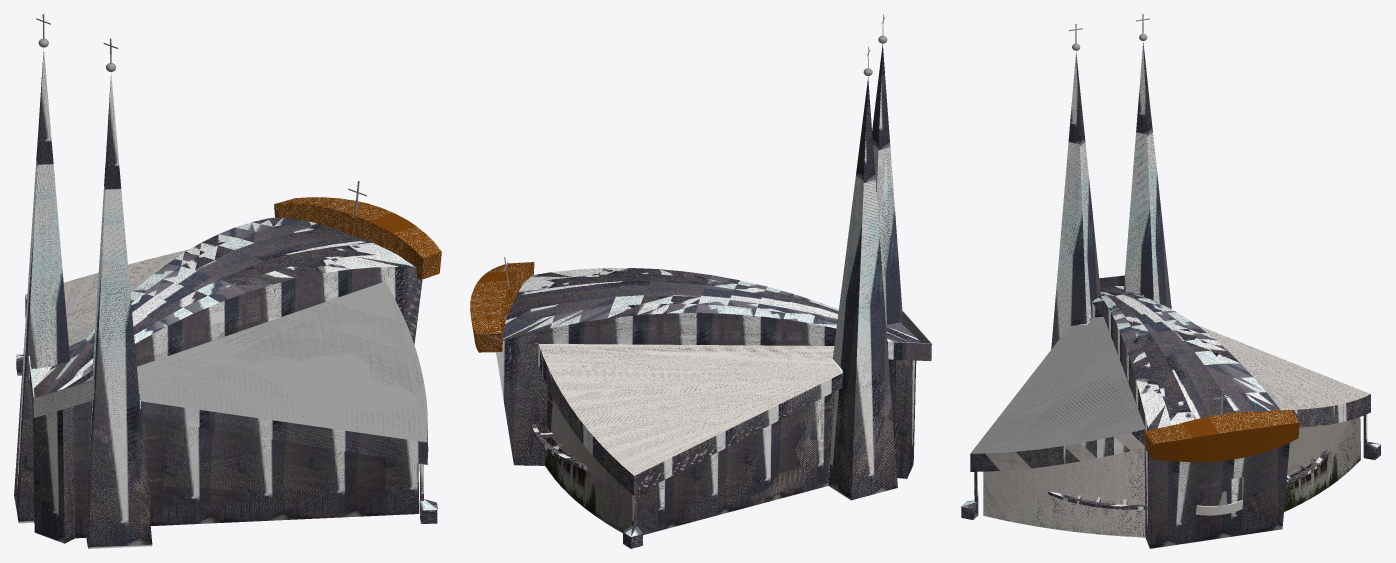
Rendered from kostol_zapad.glb.
3 renders of one model, left to right at view 1: azimuth 30°, elevation 25°; view 2: azimuth 150°, elevation 25°; view 3: azimuth 270°, elevation 25°, orthographic. The views are drawn at different scales.
Parts seen in each view (by area): view 1: stena-veže-BEZ-žaluzie, _0135_DarkGray, material_1, PA250159A_19, Color_B21, PA250159A, material_2, stena-veže-so-žaluziou_17, veža-dole-betón_13, stena-veže-BEZ-žaluzie_9, Color_001, PA250149Aa (+2 smaller); view 2: stena-veže-BEZ-žaluzie, material_2, material_1, PA250159A_22, PA250159A, bok-lode-s-oknami_0, Color_B21, betónová_stena, veža-dole-betón_11, stena-veže-BEZ-žaluzie_16, bok-lode-s-oknami_3, stena-veže-so-žaluziou_12 (+4 smaller); view 3: stena-veže-BEZ-žaluzie, material_2, _0135_DarkGray, material_1, Color_B21, bok-lode-s-oknami_0, betónová_stena, PRIEčELIE-VýCHOD_5, stena-veže-so-žaluziou1_14, bok-lode-s-oknami_3, stena-veže-BEZ-žaluzie_10, bok-lode-s-oknami_1 (+6 smaller).
Boxes of the visible parts, x1,y1,x2,y2 form: stena-veže-BEZ-žaluzie: [14, 48, 437, 548]; _0135_DarkGray: [16, 181, 434, 509]; material_1: [26, 218, 427, 441]; PA250159A_19: [143, 418, 418, 525]; Color_B21: [29, 197, 441, 397]; PA250159A: [135, 267, 415, 362]; material_2: [25, 250, 188, 346]; stena-veže-so-žaluziou_17: [94, 99, 141, 431]; veža-dole-betón_13: [88, 426, 151, 548]; stena-veže-BEZ-žaluzie_9: [26, 55, 69, 376]; Color_001: [36, 14, 441, 278]; PA250149Aa: [33, 411, 64, 540]; stena-veže-BEZ-žaluzie: [496, 44, 931, 548]; material_2: [538, 344, 842, 475]; material_1: [503, 268, 918, 474]; PA250159A_22: [637, 393, 834, 533]; PA250159A: [504, 313, 835, 345]; bok-lode-s-oknami_0: [545, 387, 632, 532]; Color_B21: [470, 262, 930, 352]; betónová_stena: [497, 343, 842, 492]; veža-dole-betón_11: [851, 382, 897, 498]; stena-veže-BEZ-žaluzie_16: [876, 48, 901, 322]; bok-lode-s-oknami_3: [545, 387, 631, 532]; stena-veže-so-žaluziou_12: [856, 86, 888, 394]; stena-veže-BEZ-žaluzie: [961, 42, 1381, 548]; material_2: [983, 324, 1370, 537]; _0135_DarkGray: [961, 276, 1378, 508]; material_1: [971, 286, 1368, 453]; Color_B21: [1121, 275, 1299, 462]; bok-lode-s-oknami_0: [983, 417, 1360, 536]; betónová_stena: [970, 396, 1370, 545]; PRIEčELIE-VýCHOD_5: [1150, 447, 1288, 548]; stena-veže-so-žaluziou1_14: [1053, 59, 1085, 331]; bok-lode-s-oknami_3: [1284, 418, 1360, 510]; stena-veže-BEZ-žaluzie_10: [1124, 51, 1152, 299]; bok-lode-s-oknami_1: [1101, 439, 1299, 535].
Size of the model in its own units: 51.12 by 54.6 by 52.27.
Materials: 45 (37 with a texture image).
